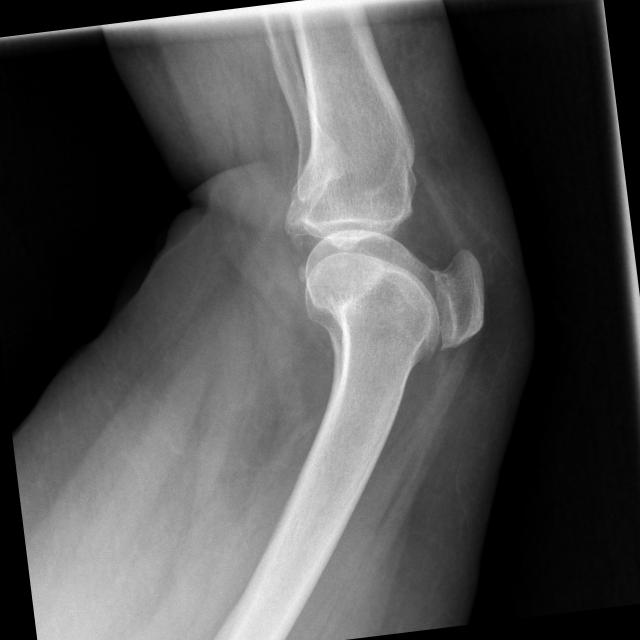Knee: (274, 165, 496, 380)
